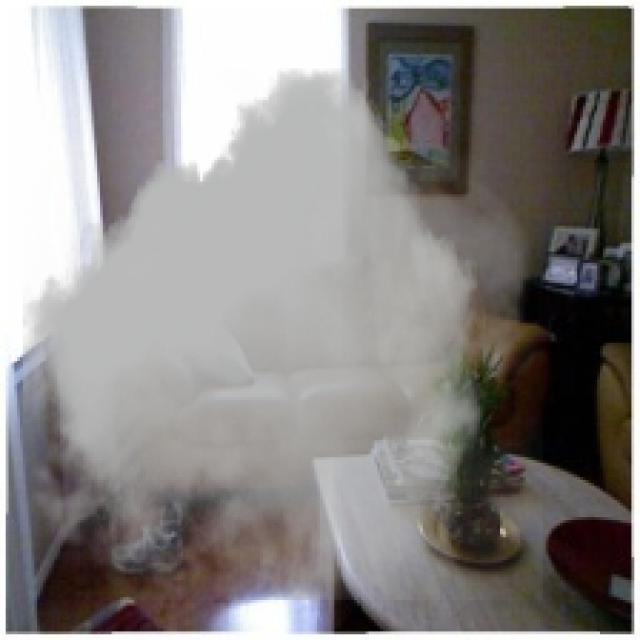Smoke: (14, 69, 543, 600)
